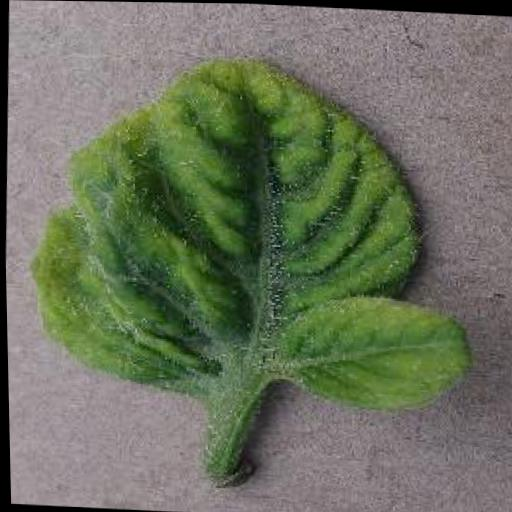Yellow Leaf Curl Virus: (25, 43, 476, 413)
